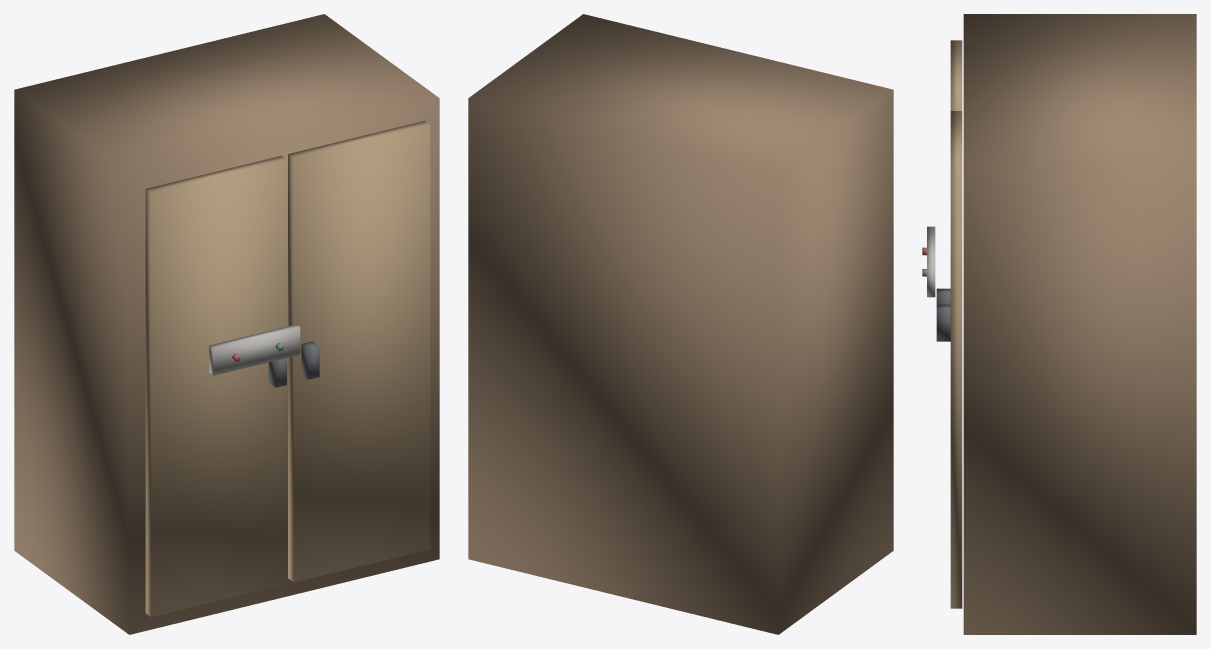
The model's file is typesetter_drawer_cabinet__deep.glb.
3 renders of one model, left to right at view 1: azimuth 30°, elevation 25°; view 2: azimuth 150°, elevation 25°; view 3: azimuth 270°, elevation 25°, orthographic.
Visible parts, largest first — view 1: world; view 2: world; view 3: world.
Part boxes in pixels (box(x1,y1,x2,y2)): world: box(14, 14, 439, 634); world: box(468, 14, 893, 634); world: box(922, 14, 1196, 634).
Size of the model in its own units: 0.95 by 1.35 by 0.718.
